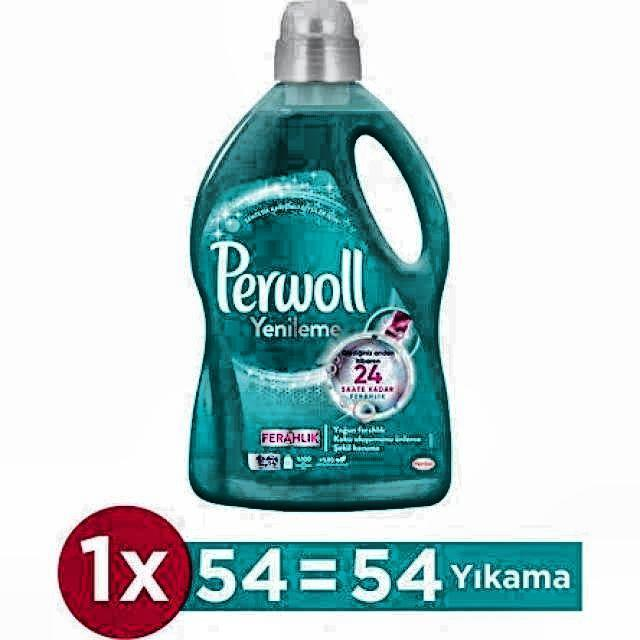plastic: (186, 0, 454, 515)
